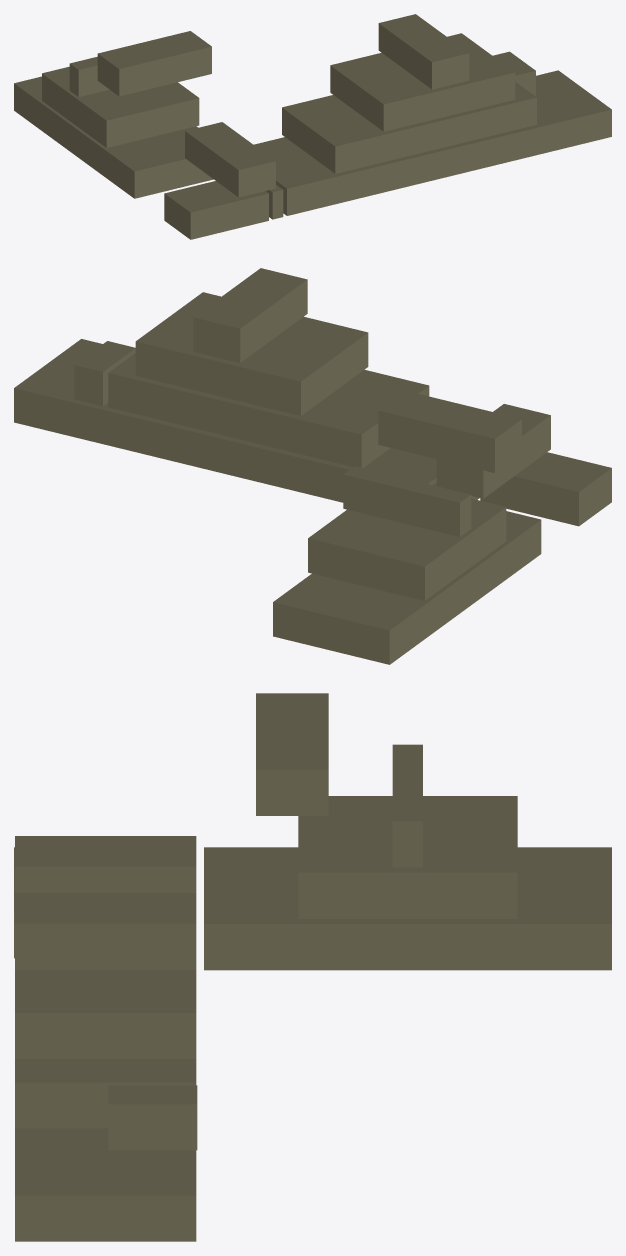
File: SM_PretilEsquinaPaso_v1_Talud_e1_Danado_LOD1.fbx
3 renders of one model, top to bottom at view 1: azimuth 30°, elevation 25°; view 2: azimuth 150°, elevation 25°; view 3: azimuth 270°, elevation 25°, orthographic. The views are drawn at different scales.
Visible parts, largest first — view 1: SM_pretil_azotea_v45_LOD1; view 2: SM_pretil_azotea_v45_LOD1; view 3: SM_pretil_azotea_v45_LOD1.
Boxes of the visible parts, x1=… form: SM_pretil_azotea_v45_LOD1: x1=14, y1=14, x2=611, y2=239; SM_pretil_azotea_v45_LOD1: x1=14, y1=268, x2=611, y2=664; SM_pretil_azotea_v45_LOD1: x1=14, y1=693, x2=611, y2=1241.
Bounding box in the file's own units: 4.36 × 1.17 × 3.17.
